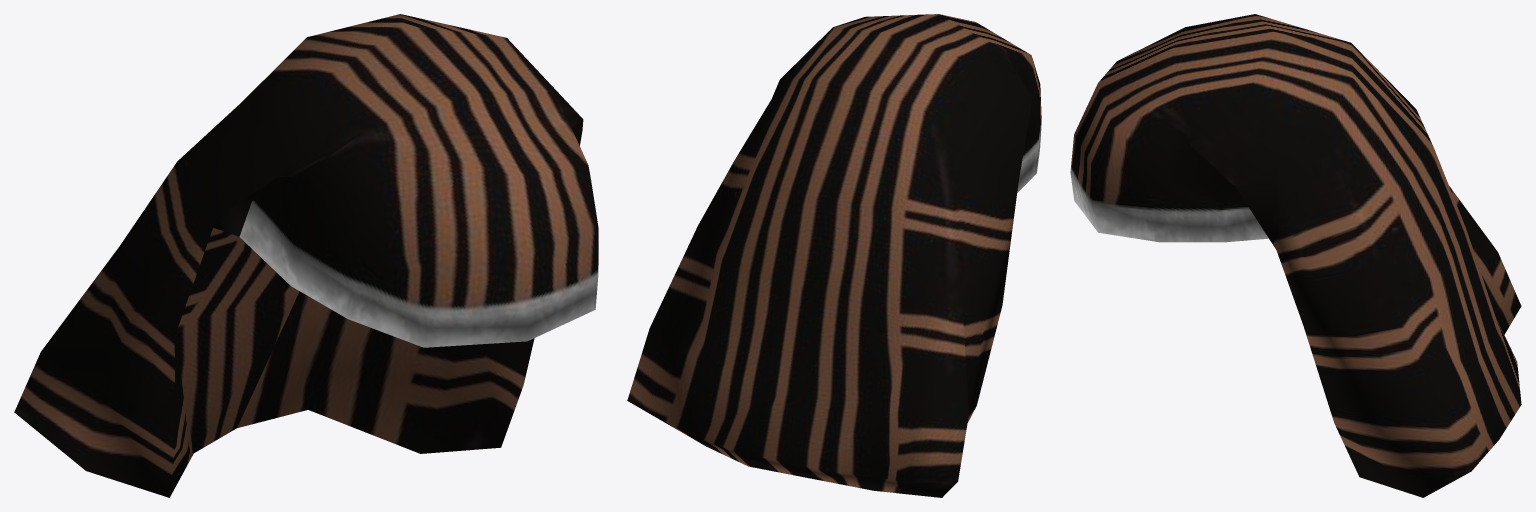
The model's file is helmet-mediumaxemen.glb.
3 renders of one model, left to right at view 1: azimuth 30°, elevation 25°; view 2: azimuth 150°, elevation 25°; view 3: azimuth 270°, elevation 25°, orthographic. The views are drawn at different scales.
Bounding box in the file's own units: 0.318 × 0.3379 × 0.3435.
Materials: 1 (1 with a texture image).
